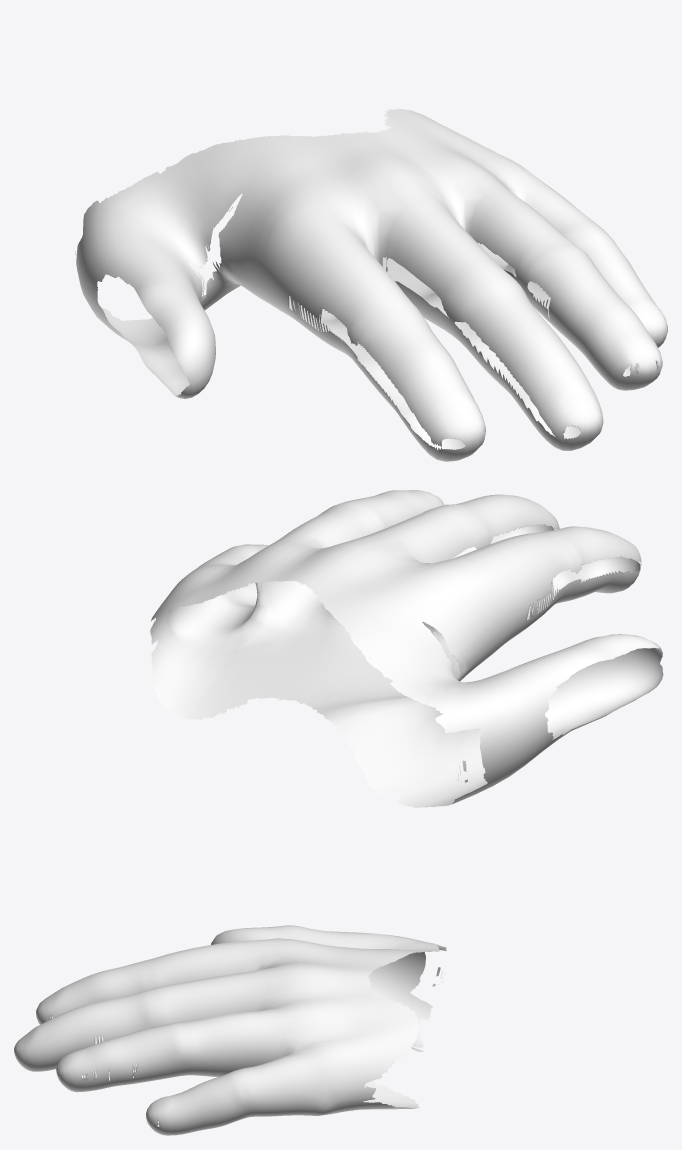
File: testHand.fbx
3 renders of one model, top to bottom at view 1: azimuth 30°, elevation 25°; view 2: azimuth 150°, elevation 25°; view 3: azimuth 270°, elevation 25°, orthographic. The views are drawn at different scales.
Parts seen in each view (by area): view 1: LeftHand; view 2: LeftHand; view 3: LeftHand.
Boxes of the visible parts, x1,y1,x2,y2 form: LeftHand: (75, 108, 667, 461); LeftHand: (150, 490, 663, 807); LeftHand: (14, 925, 446, 1135).
Bounding box in the file's own units: 11.93 × 4.57 × 20.54.
1 material, 1 textured.
